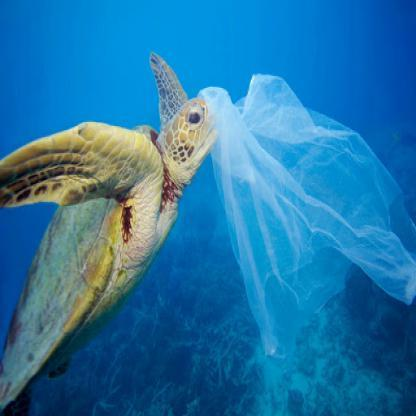Rác: (208, 69, 409, 350)
